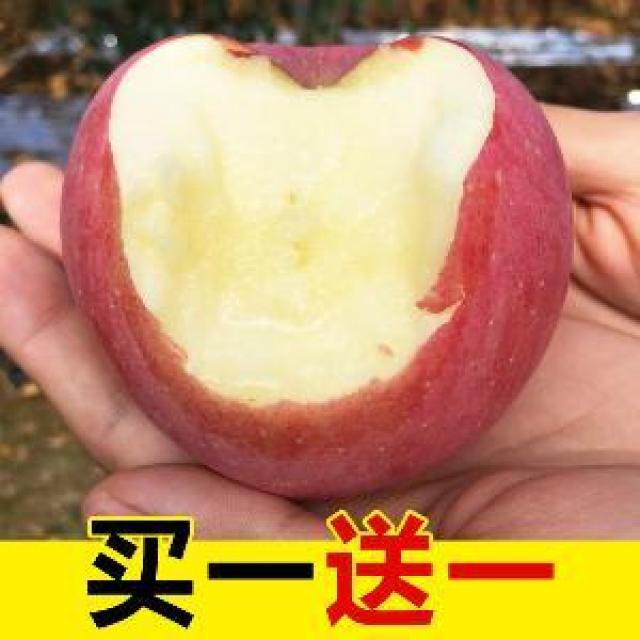Rotten: (54, 26, 570, 504)
